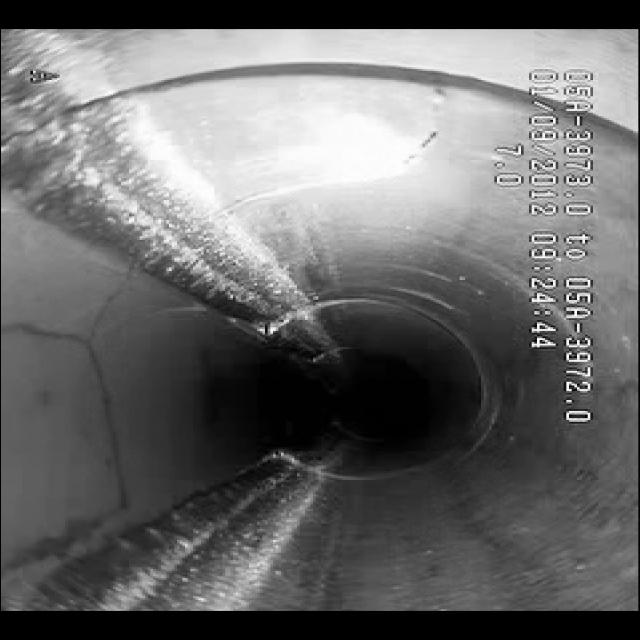Fracture: (186, 85, 484, 258), (22, 279, 174, 517)
